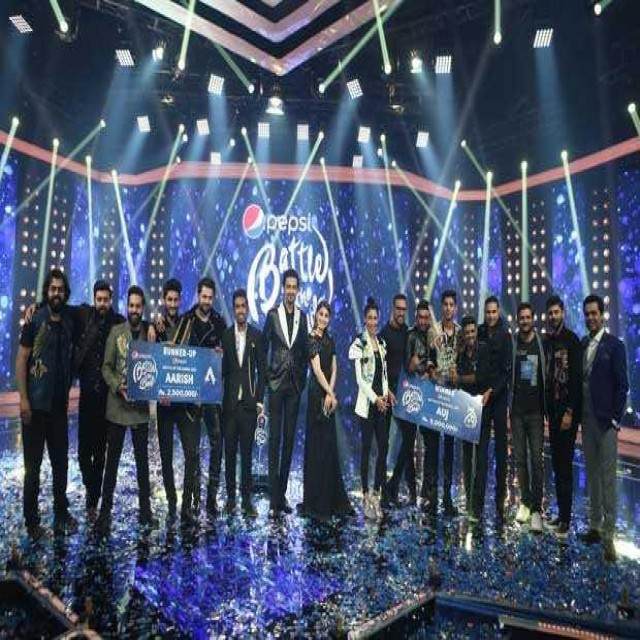pepsi: (243, 203, 271, 243)
